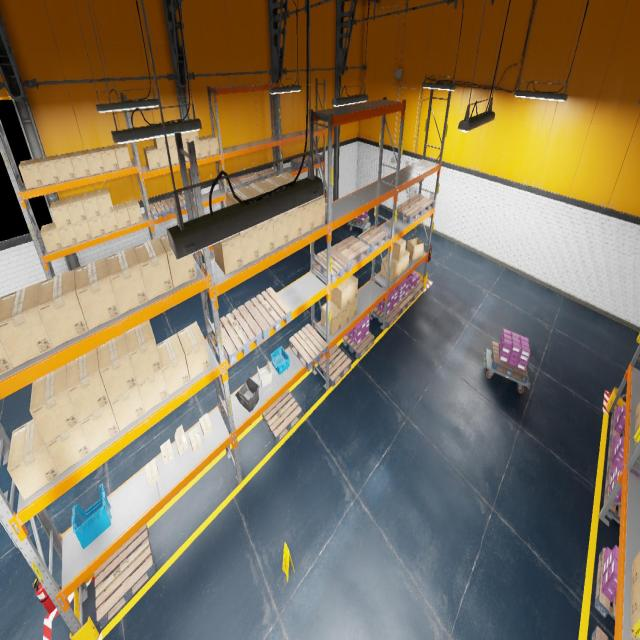box: (0, 283, 53, 368), (7, 419, 59, 500), (37, 269, 88, 348), (30, 364, 79, 444), (74, 257, 120, 330), (66, 348, 110, 422), (106, 247, 148, 315), (97, 333, 137, 402), (124, 320, 162, 384), (134, 238, 173, 300), (45, 423, 91, 474), (156, 333, 190, 395), (79, 402, 119, 452), (160, 234, 197, 287), (177, 321, 209, 380), (110, 384, 145, 430), (225, 187, 257, 235), (243, 182, 273, 228), (138, 368, 168, 412), (213, 233, 243, 275), (259, 176, 287, 220), (274, 172, 300, 213), (0, 298, 13, 375), (18, 158, 44, 189), (240, 228, 260, 266), (321, 300, 341, 336), (37, 156, 60, 186), (50, 199, 72, 228), (41, 222, 62, 252), (54, 153, 76, 181), (66, 195, 87, 223), (70, 150, 91, 178), (330, 281, 350, 310), (258, 221, 274, 257), (81, 192, 101, 220), (85, 147, 105, 175), (99, 145, 119, 172), (273, 214, 288, 249), (112, 143, 132, 169), (95, 188, 114, 215), (331, 300, 349, 328), (113, 202, 131, 229), (125, 198, 143, 224), (57, 225, 78, 247), (381, 255, 398, 281), (288, 208, 301, 242), (72, 220, 92, 242), (174, 424, 188, 455), (312, 196, 325, 228), (388, 238, 406, 261), (87, 215, 105, 238), (143, 146, 161, 169), (301, 201, 313, 235), (145, 458, 159, 487), (344, 274, 358, 303), (406, 238, 424, 260), (101, 211, 118, 233), (388, 254, 404, 277), (160, 439, 174, 465), (631, 578, 640, 618), (188, 427, 202, 452), (630, 608, 640, 640), (199, 413, 212, 437), (632, 551, 640, 589), (204, 135, 219, 155), (158, 148, 171, 167), (199, 136, 210, 158), (153, 136, 168, 149), (168, 146, 178, 165), (349, 298, 357, 320), (403, 250, 409, 271), (194, 141, 201, 159), (188, 131, 199, 142), (183, 144, 189, 162), (635, 402, 640, 422), (167, 135, 176, 146), (634, 440, 640, 456), (635, 415, 640, 434), (181, 133, 189, 143)
pallets: (94, 523, 155, 628), (212, 305, 262, 365), (244, 287, 291, 340), (262, 389, 301, 444), (289, 324, 328, 371), (594, 547, 616, 620), (490, 341, 528, 383), (317, 344, 351, 387), (314, 247, 351, 283), (333, 235, 369, 267), (357, 225, 388, 253), (344, 331, 374, 359), (604, 469, 620, 520), (372, 305, 400, 328), (396, 201, 423, 223), (149, 198, 175, 220), (407, 194, 434, 214), (609, 409, 624, 442), (170, 194, 196, 212), (606, 436, 616, 474), (396, 293, 413, 314), (221, 178, 243, 192), (237, 172, 260, 185), (408, 282, 423, 301), (256, 168, 277, 180), (592, 626, 608, 640), (291, 156, 308, 168), (351, 216, 369, 227), (305, 153, 323, 163), (199, 247, 209, 251)
